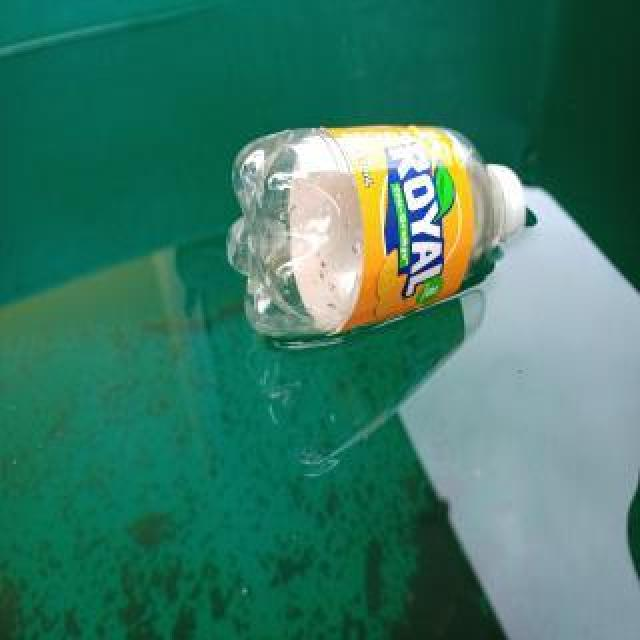bottle: (223, 118, 529, 344)
